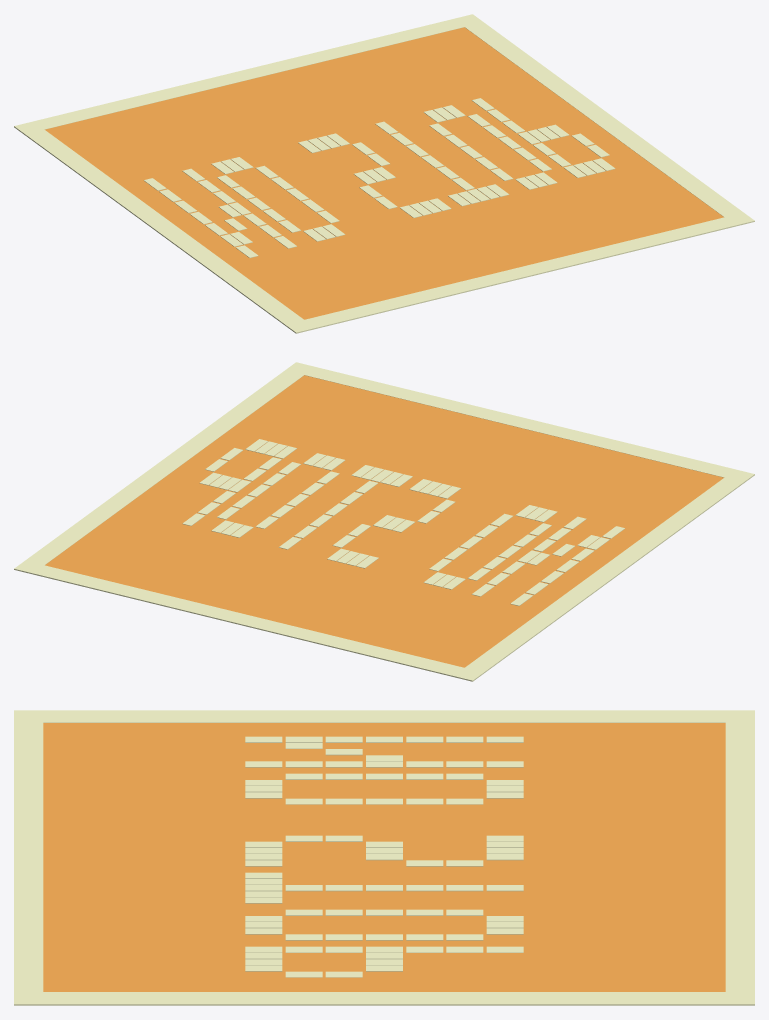
The model's file is marking_no_stopping_box_red.glb.
The picture shows the model from 3 angles, top to bottom: view 1: azimuth 30°, elevation 25°; view 2: azimuth 150°, elevation 25°; view 3: azimuth 270°, elevation 25°; orthographic projection. The views are drawn at different scales.
Parts seen in each view (by area): view 1: no_stopping_box_fill, no_stopping_box_bottom, no_stopping_box_top, no_stopping_box_left, no_stopping_box_right; view 2: no_stopping_box_fill, no_stopping_box_top, no_stopping_box_bottom, no_stopping_box_left, no_stopping_box_right; view 3: no_stopping_box_fill, no_stopping_box_right, no_stopping_box_top, no_stopping_box_bottom, no_stopping_box_left.
Boxes of the visible parts, x1=… form: no_stopping_box_fill: x1=45, y1=27, x2=723, y2=319; no_stopping_box_bottom: x1=285, y1=212, x2=754, y2=333; no_stopping_box_top: x1=14, y1=14, x2=483, y2=134; no_stopping_box_left: x1=25, y1=129, x2=303, y2=325; no_stopping_box_right: x1=465, y1=22, x2=743, y2=217; no_stopping_box_fill: x1=45, y1=375, x2=723, y2=667; no_stopping_box_top: x1=14, y1=560, x2=483, y2=681; no_stopping_box_bottom: x1=285, y1=362, x2=754, y2=482; no_stopping_box_left: x1=465, y1=477, x2=743, y2=673; no_stopping_box_right: x1=25, y1=370, x2=303, y2=565; no_stopping_box_fill: x1=43, y1=723, x2=725, y2=991; no_stopping_box_right: x1=43, y1=992, x2=725, y2=1005; no_stopping_box_top: x1=725, y1=710, x2=754, y2=1005; no_stopping_box_bottom: x1=14, y1=710, x2=43, y2=1005; no_stopping_box_left: x1=43, y1=710, x2=725, y2=722.
Size of the model in its own units: 2.14 by 0.006 by 2.28.
